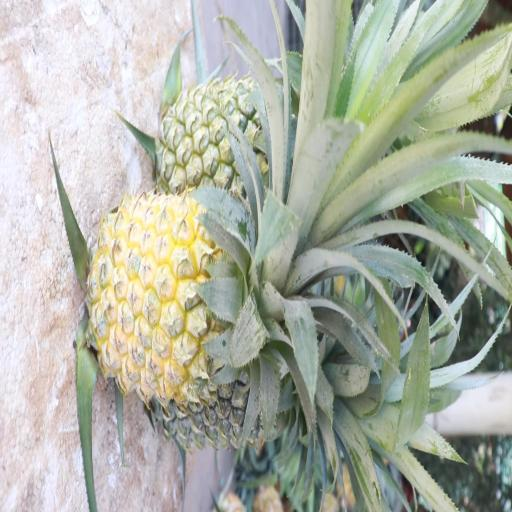------------------------------: (158, 63, 316, 196)
Pineapple - v8 v1: (92, 192, 304, 395)
